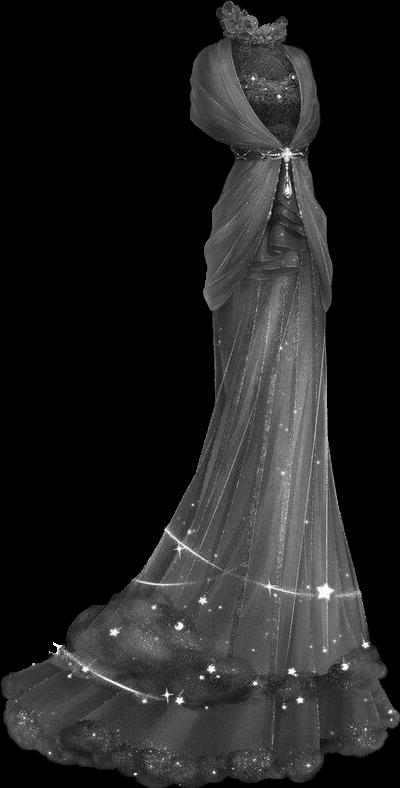Bodice: (190, 1, 320, 162)
Hemline: (0, 678, 399, 787), (55, 642, 384, 700), (207, 167, 288, 317), (283, 166, 330, 305)
Neckline: (227, 40, 303, 151), (216, 3, 288, 37), (222, 40, 286, 60)
Skirt: (1, 162, 399, 787)
Waistline: (232, 157, 311, 169)
